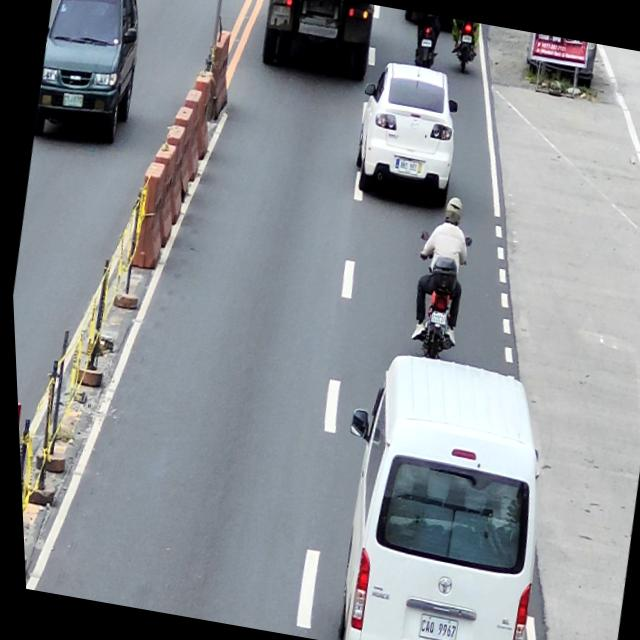Car: (305, 345, 563, 640), (27, 0, 154, 152), (344, 56, 469, 209)
License-Plate: (409, 613, 452, 640), (60, 92, 83, 109), (396, 157, 417, 175), (426, 309, 445, 326), (419, 37, 432, 47), (461, 34, 472, 44)
Motorcycle: (396, 228, 474, 364), (446, 19, 481, 77), (410, 18, 440, 68)
